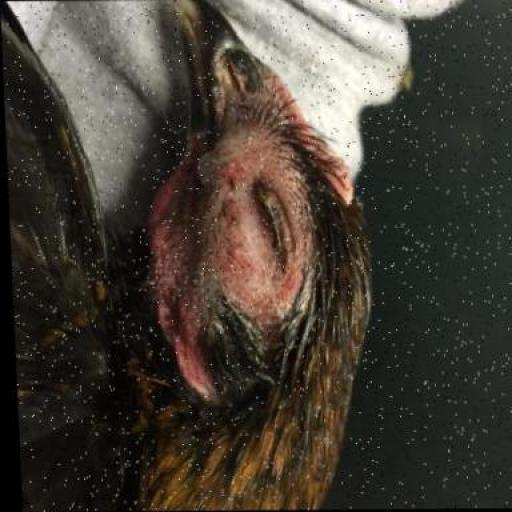disease: (204, 123, 316, 331)
